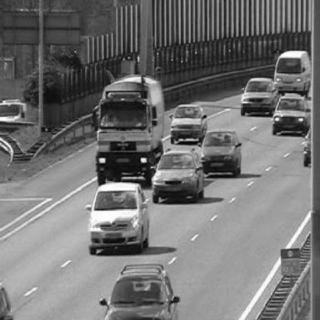other: (99, 114, 117, 132)
